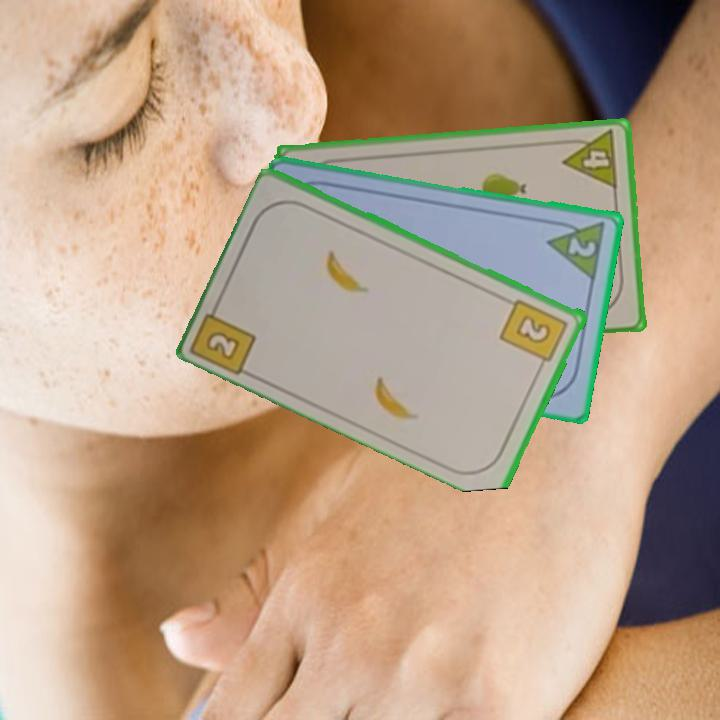2b: (190, 295, 260, 377), (497, 295, 571, 372)
2p: (544, 216, 609, 283)
4p: (558, 127, 621, 192)
